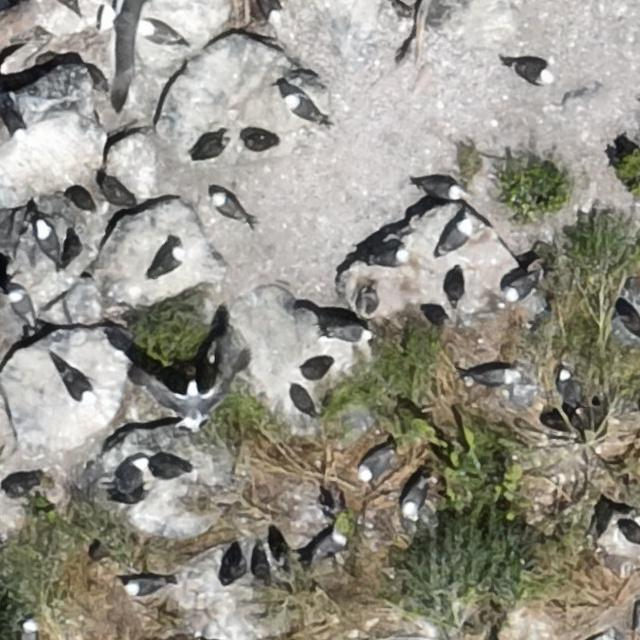F: (147, 354, 257, 425)
umineko: (34, 218, 62, 264), (286, 94, 326, 124), (213, 192, 249, 224), (139, 20, 185, 45), (514, 60, 554, 84), (360, 451, 390, 480), (467, 367, 510, 385), (506, 272, 534, 299), (443, 222, 468, 252), (403, 481, 425, 515), (316, 533, 347, 557), (560, 365, 580, 399), (64, 374, 91, 399), (330, 325, 367, 343), (422, 180, 459, 198), (10, 291, 32, 320), (156, 250, 182, 274), (127, 578, 161, 595), (374, 251, 406, 267), (22, 619, 37, 640)
